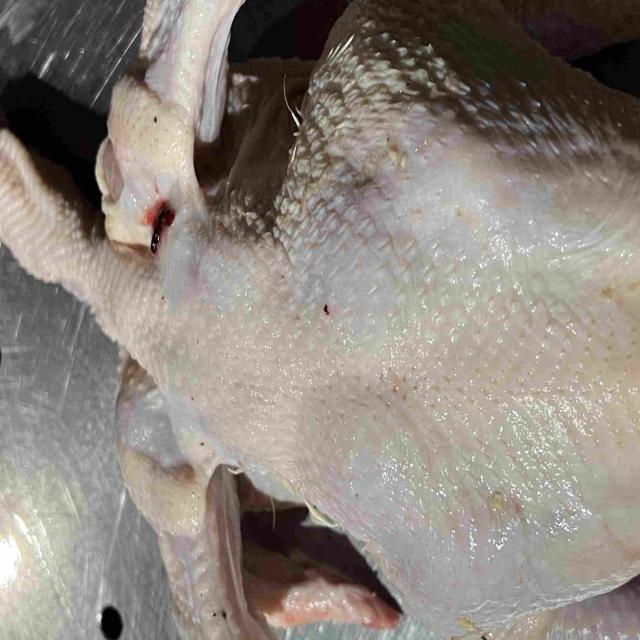back: (182, 80, 640, 534)
leg: (348, 0, 640, 91), (393, 535, 640, 640)
neck: (0, 121, 167, 372)
wing: (117, 378, 394, 640), (93, 0, 244, 239)
